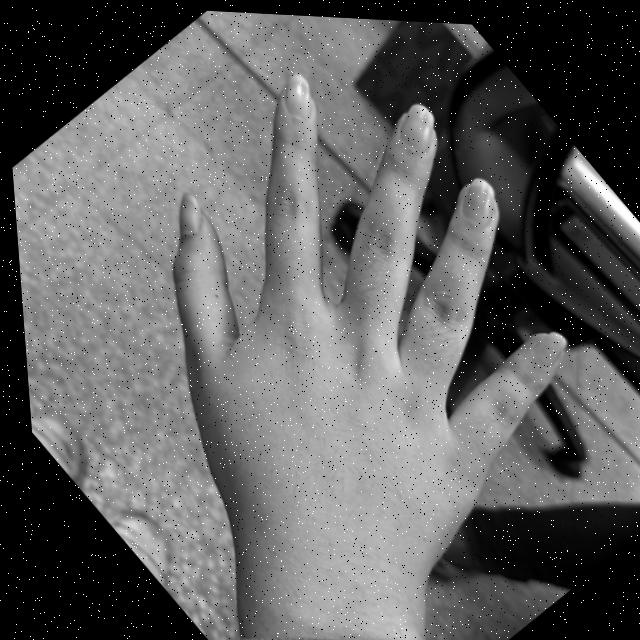hand: (34, 1, 640, 631)
